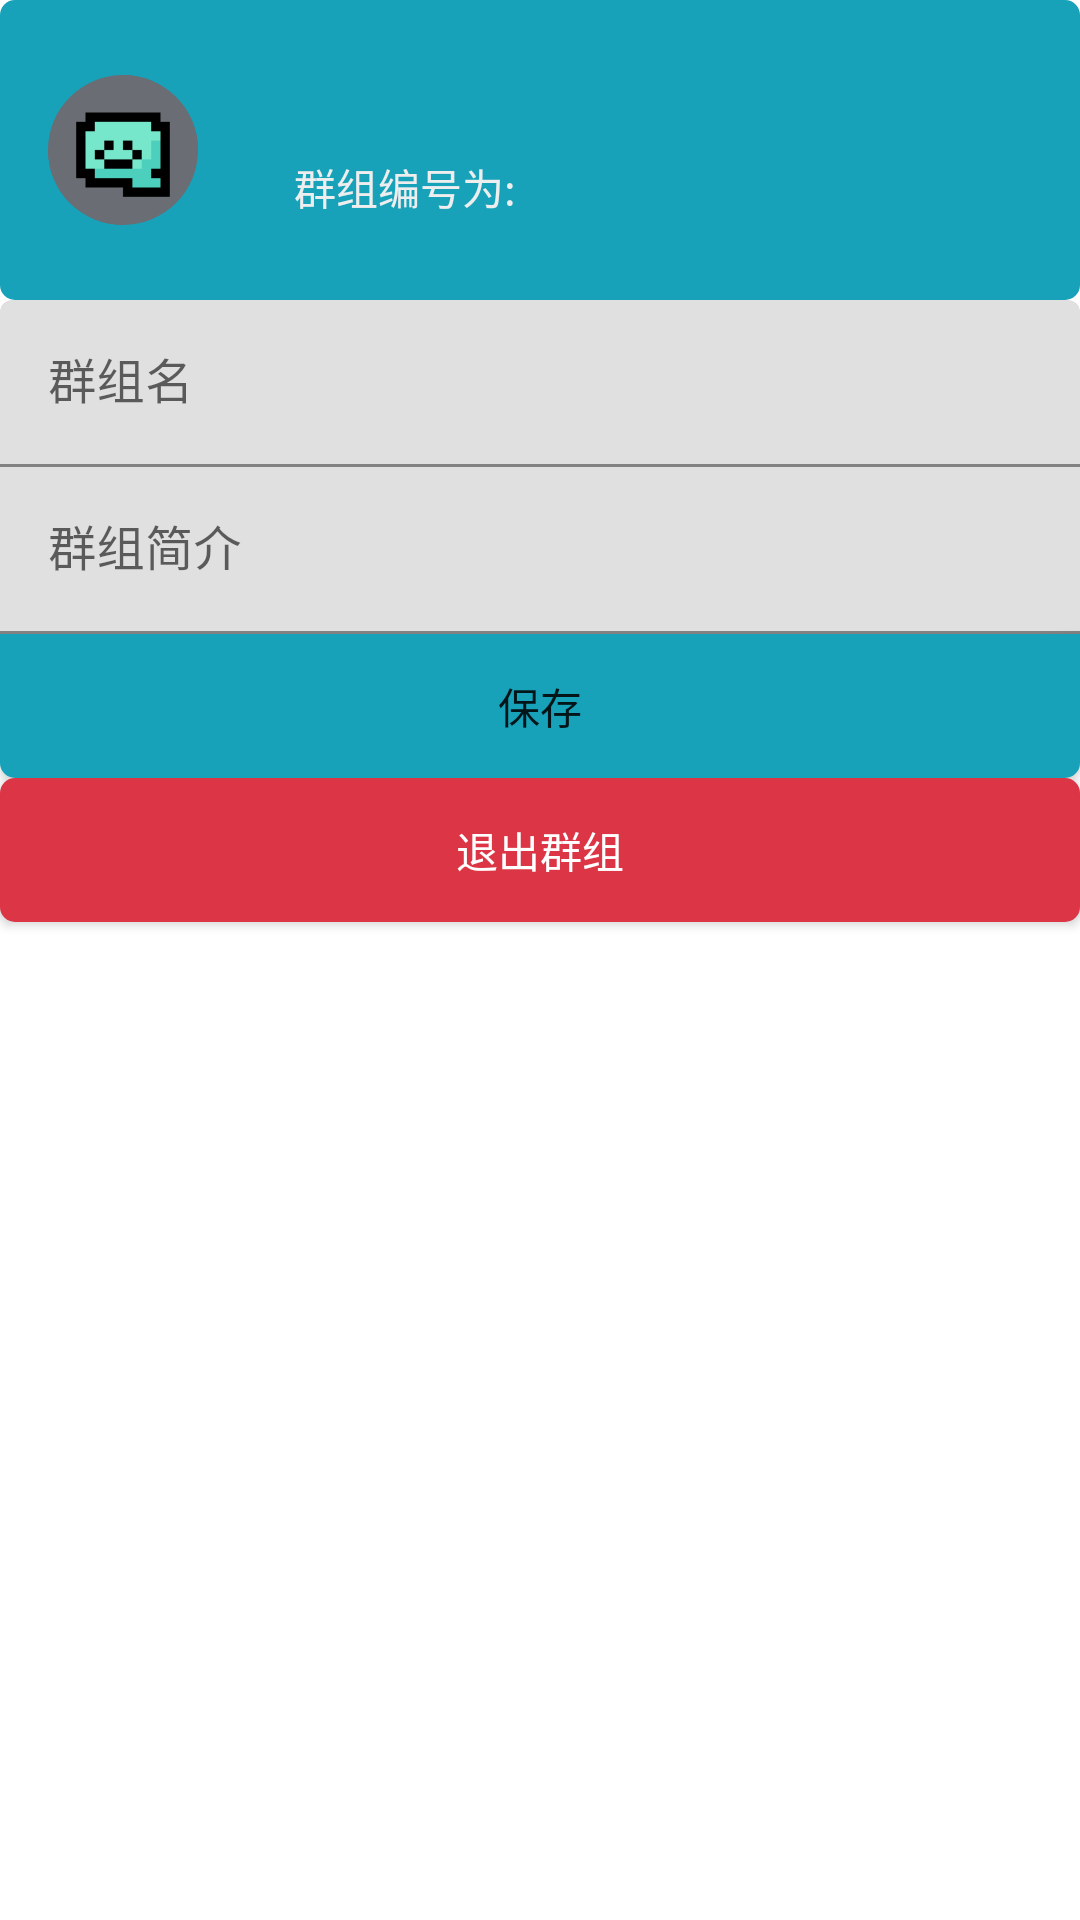

Screen size 1080x1920. Icon name, then its center in pixels as [x,y]:
message: [123,150]
